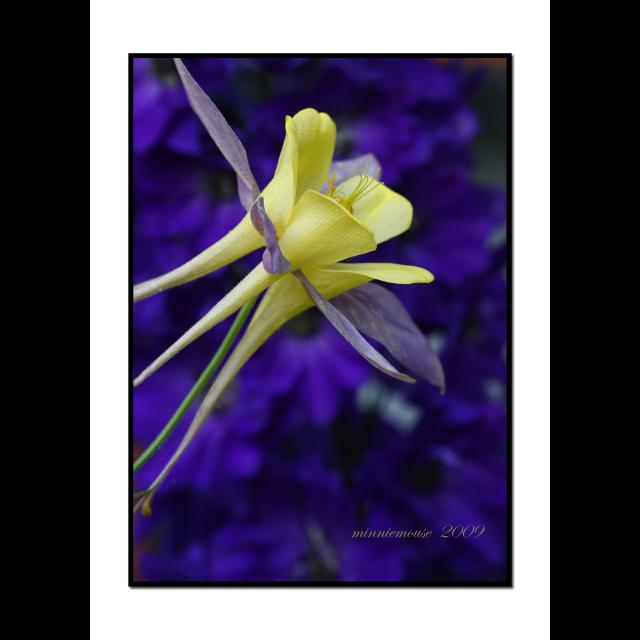Flower: (127, 78, 455, 474)
